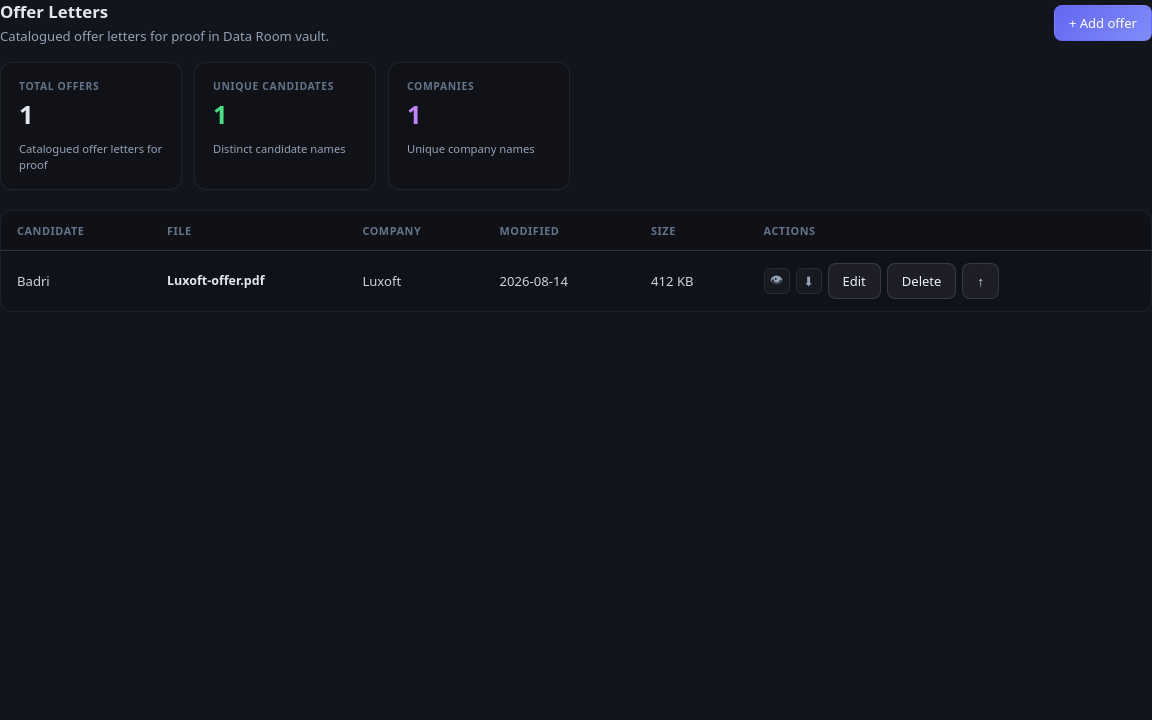
it: offer letter dialog › no longer exposes the values the upload derives
The width and height of the screenshot is (1152, 720).
Click the button "Edit" at (854, 280), box [828,262,881,298]
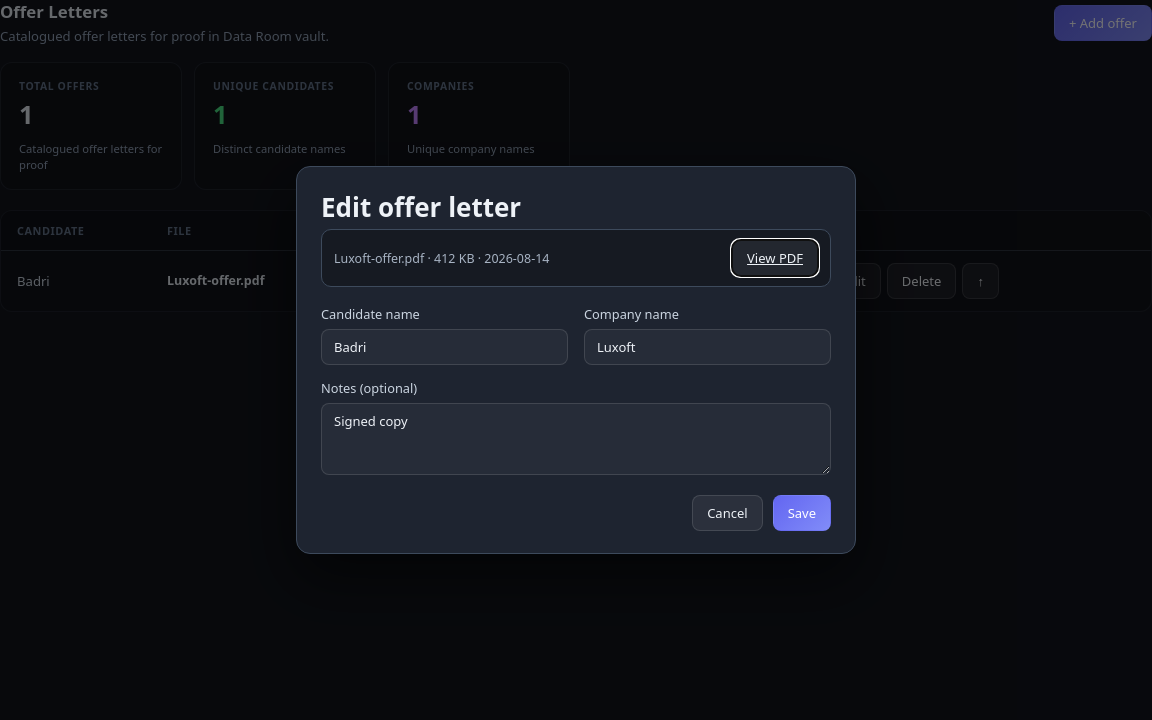
Check: the dialog shows "Luxoft-offer.pdf", box [334,250,549,266]
